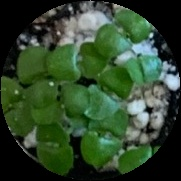Basil: (82, 67, 130, 119), (93, 10, 146, 57), (32, 86, 89, 126), (83, 110, 126, 163), (17, 49, 57, 105), (0, 77, 32, 139), (32, 125, 70, 176), (46, 47, 106, 76), (130, 55, 163, 75)
